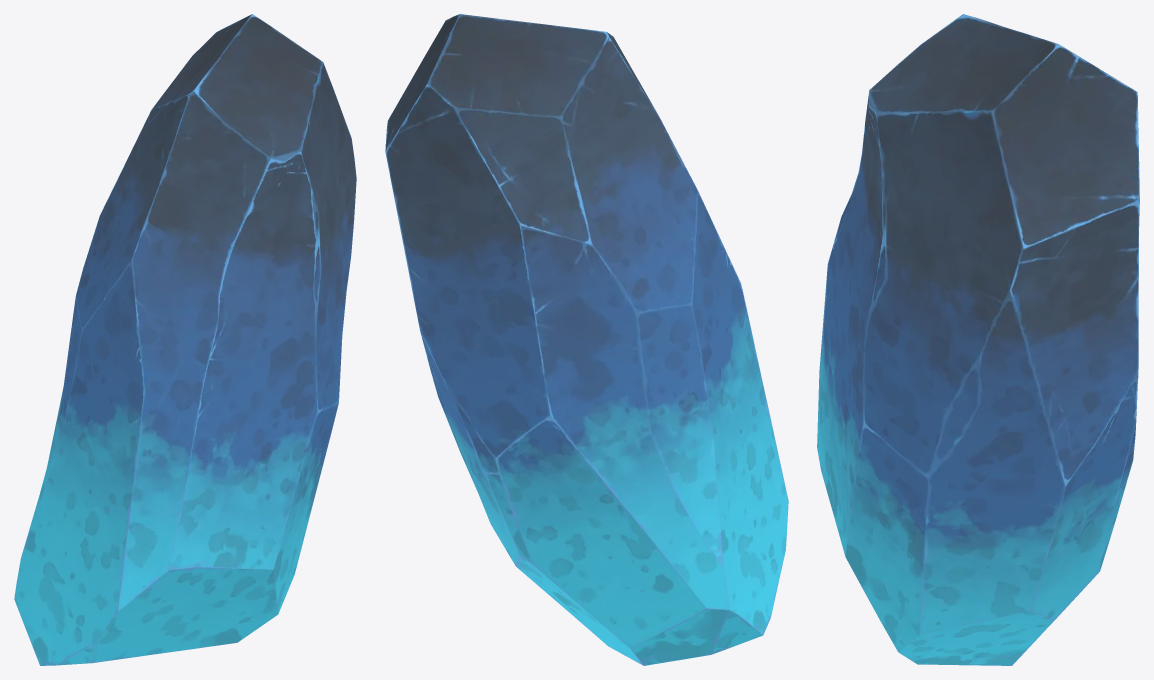
Rendered from light-shard.glb.
3 renders of one model, left to right at view 1: azimuth 30°, elevation 25°; view 2: azimuth 150°, elevation 25°; view 3: azimuth 270°, elevation 25°, orthographic. The views are drawn at different scales.
Visible parts, largest first — view 1: Crystal_low.002; view 2: Crystal_low.002; view 3: Crystal_low.002.
Boxes of the visible parts, left/top/right/bottom form: Crystal_low.002: left=14, top=14, right=356, bottom=665; Crystal_low.002: left=385, top=14, right=788, bottom=665; Crystal_low.002: left=817, top=14, right=1139, bottom=665.
Size of the model in its own units: 0.0709 by 0.1195 by 0.0504.
1 material, 1 textured.
